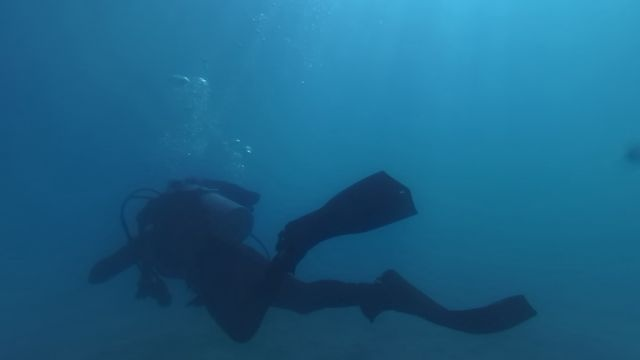Diver: (71, 161, 559, 349)
